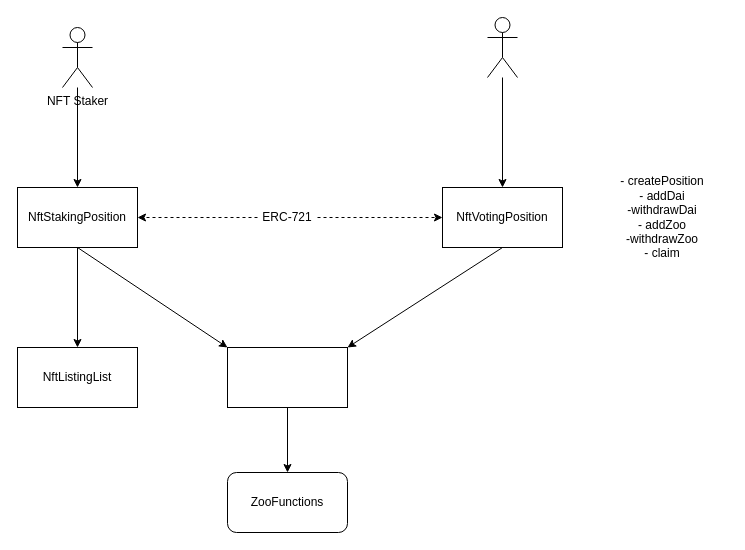
The diagram is 745 pixels wide and 550 high, and some of its shapes have lost their labels. The shapes that lost their labels are listed below. From the top down, each one's centre as x and y in pixels, then its label:
At (x=502, y=47): "Voter".
At (x=287, y=377): "NftBattleArena".
